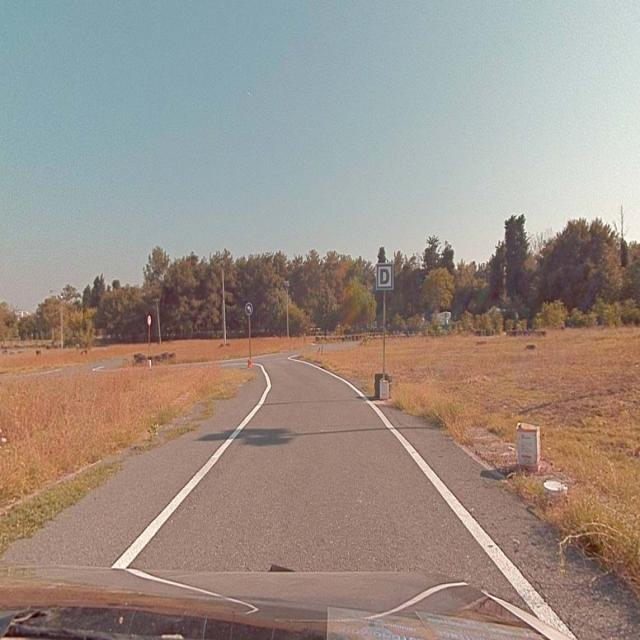durak: (376, 263, 393, 290)
sol: (245, 302, 253, 315)
